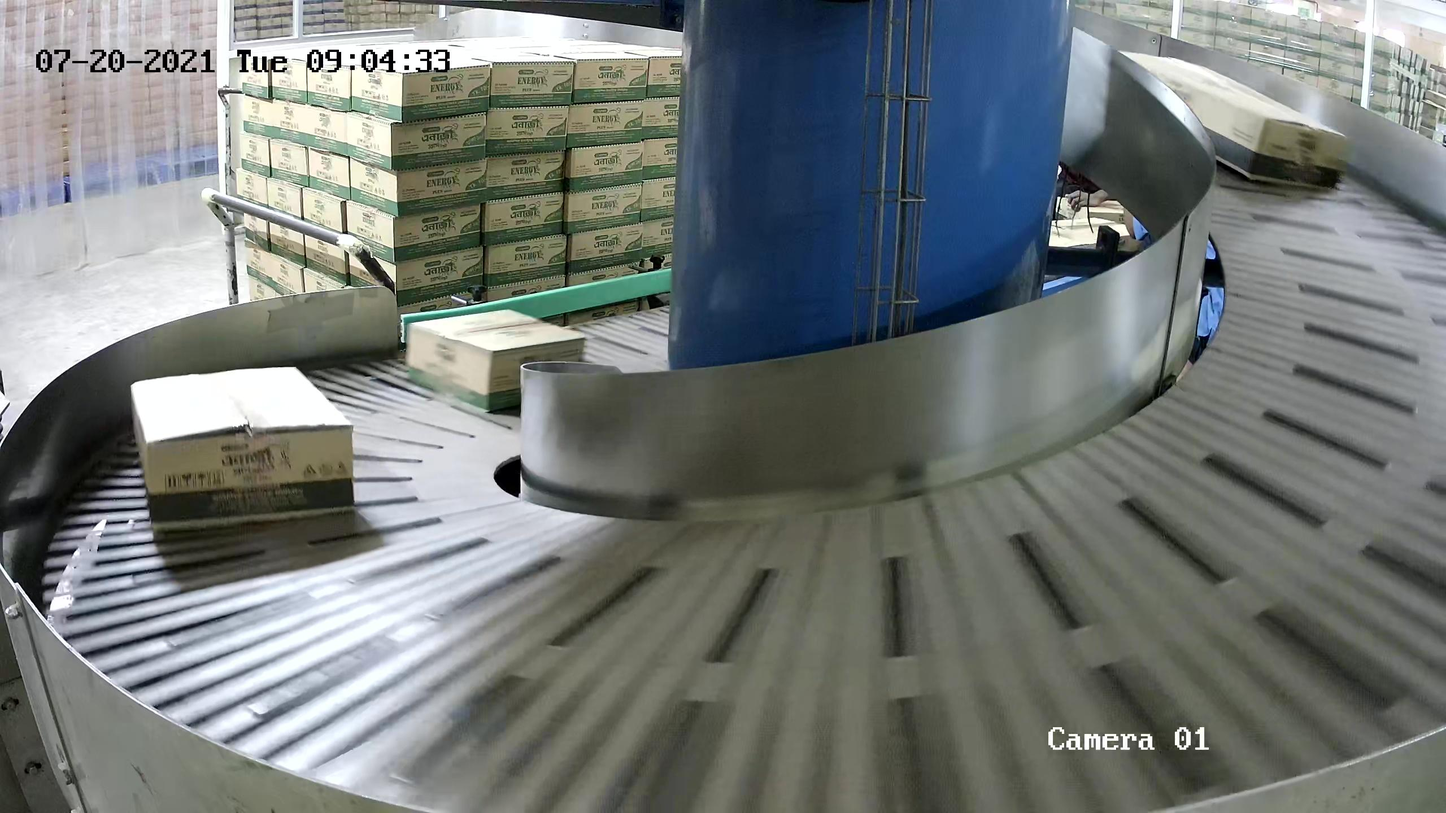Box: (129, 363, 357, 533), (1114, 48, 1349, 192), (404, 306, 589, 413)
